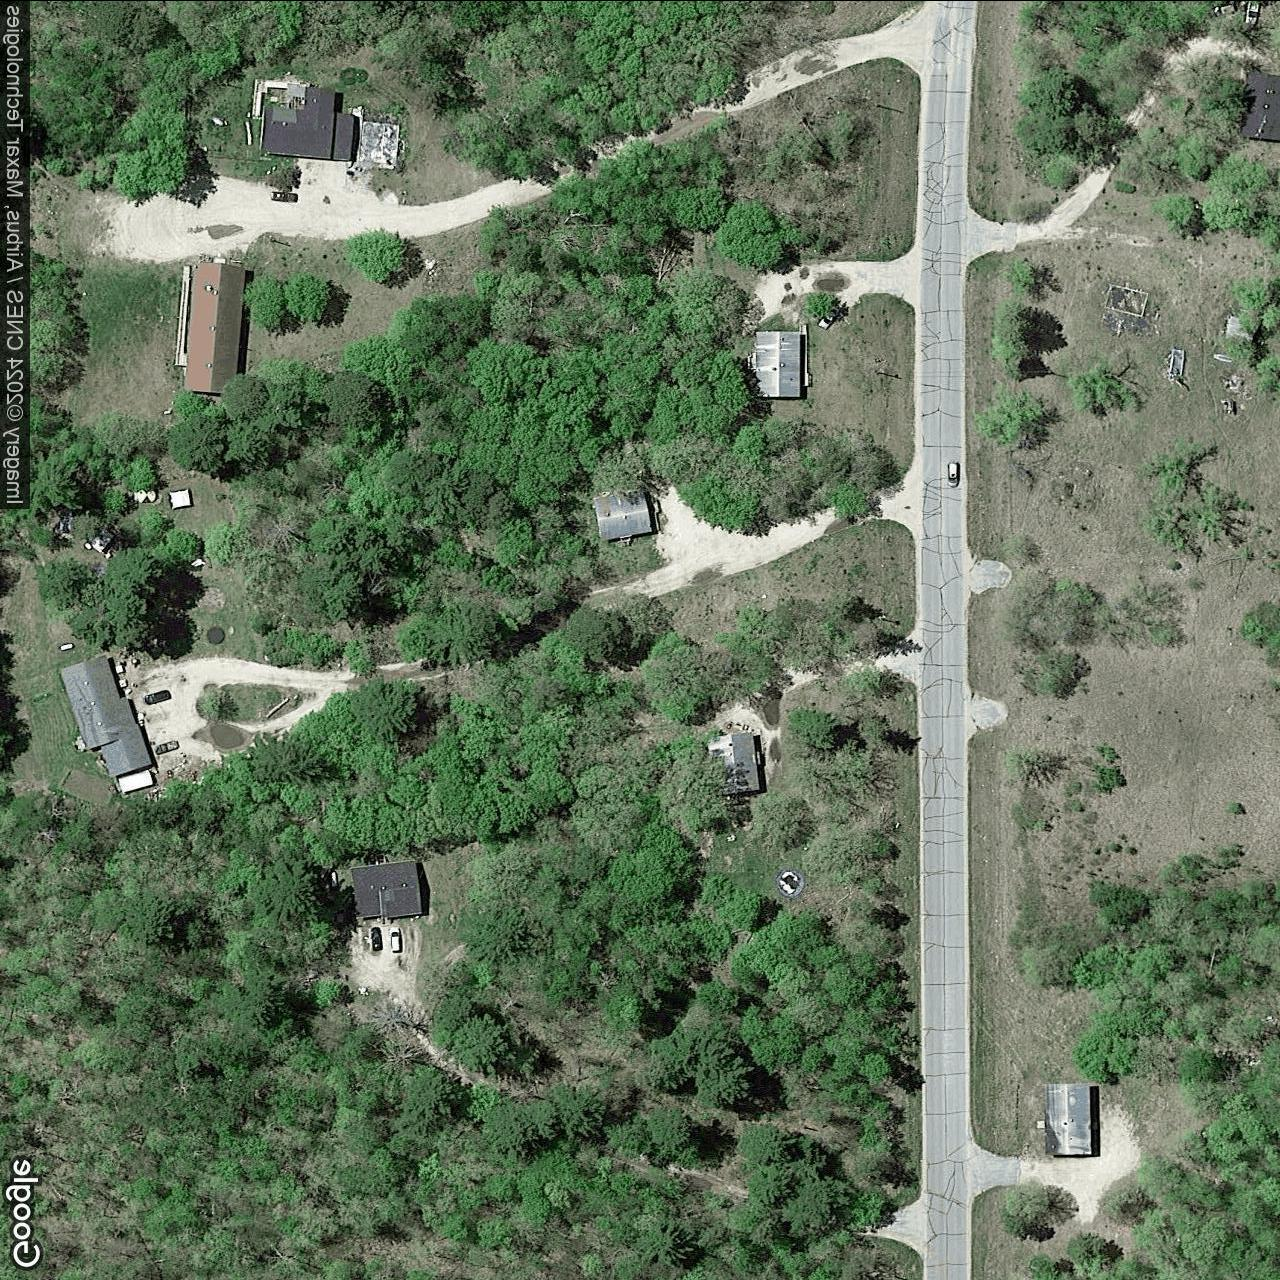House: (57, 652, 154, 779), (183, 260, 248, 395), (259, 79, 355, 162), (349, 858, 423, 918), (703, 730, 762, 797), (1042, 1082, 1094, 1156), (591, 484, 653, 543), (754, 329, 802, 401), (1238, 69, 1280, 142)
Propane: (57, 640, 76, 653), (331, 870, 340, 888)
